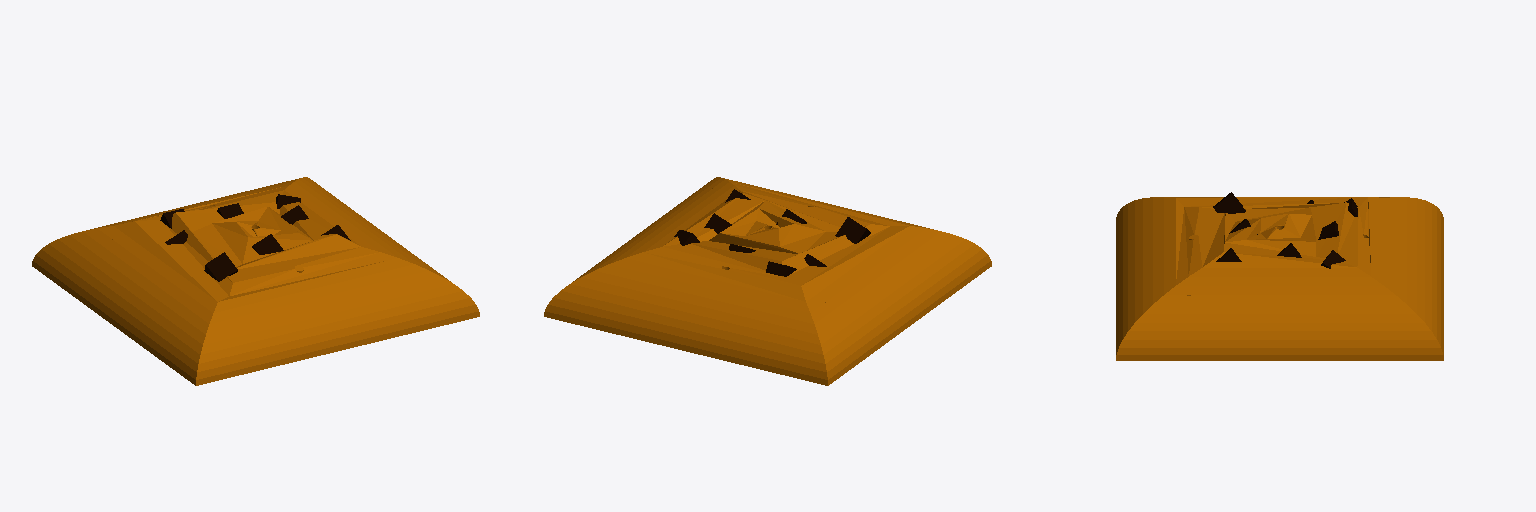
The model's file is sq_bis.obj.
3 renders of one model, left to right at view 1: azimuth 30°, elevation 25°; view 2: azimuth 150°, elevation 25°; view 3: azimuth 270°, elevation 25°, orthographic.
Visible parts, largest first — view 1: Sphere, Cube.003; view 2: Sphere; view 3: Sphere.
Boxes of the visible parts, <box> form: Sphere: <box>32,177,479,385</box>; Cube.003: <box>204,252,237,281</box>; Sphere: <box>544,177,991,385</box>; Sphere: <box>1116,197,1443,360</box>.
Size of the model in its own units: 1.41 by 0.3354 by 1.41.